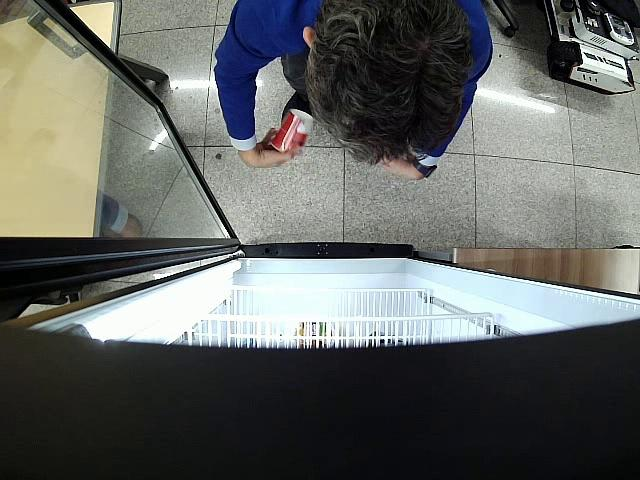00_hand: (377, 159, 423, 181)
02_shinRamen_S: (269, 109, 313, 156)
